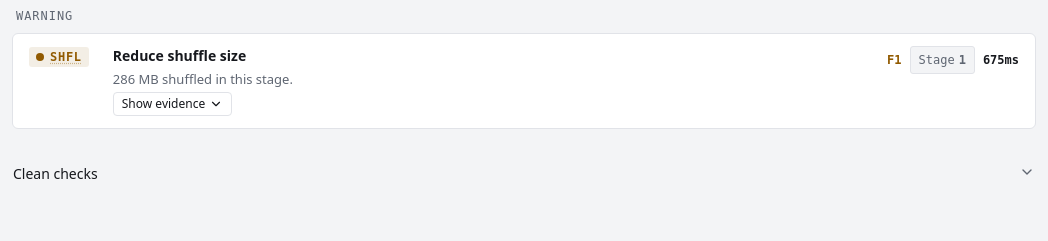
Test: evidence panel on a Findings row › keeps an open panel's widget props when the board re-renders with the same inputs
This screenshot has width=1048, height=241.
Click the button "Show evidence": point(172, 104) [113,92,232,116]
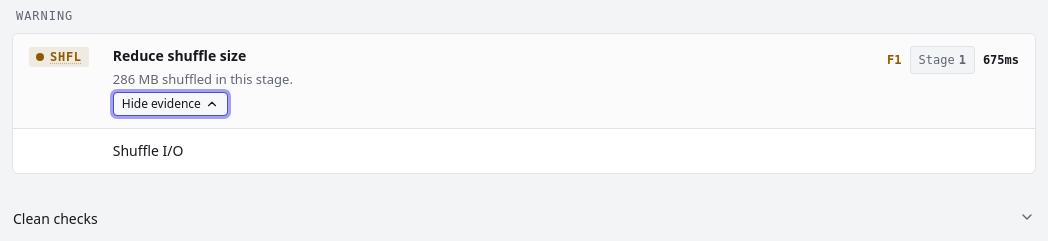
Result: the heading "Shuffle I/O" is shown at [113,141,184,160]
